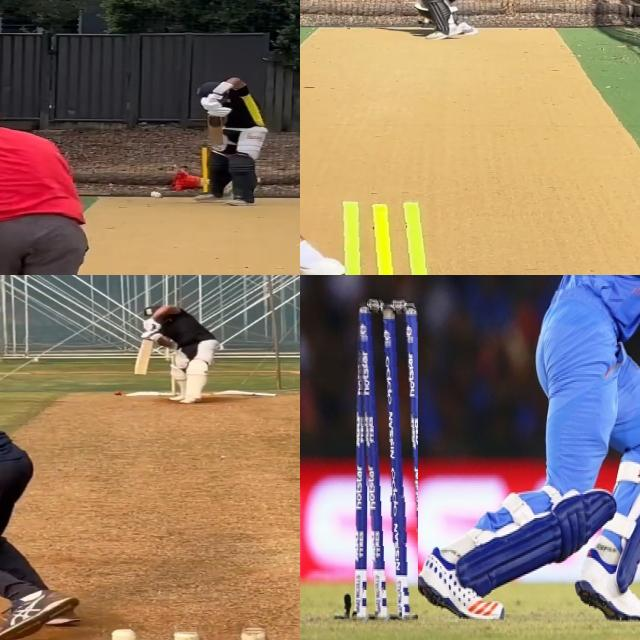Cricket ball: (354, 298, 418, 626), (149, 190, 163, 199), (114, 390, 122, 396)
Stumps: (322, 198, 446, 275)
